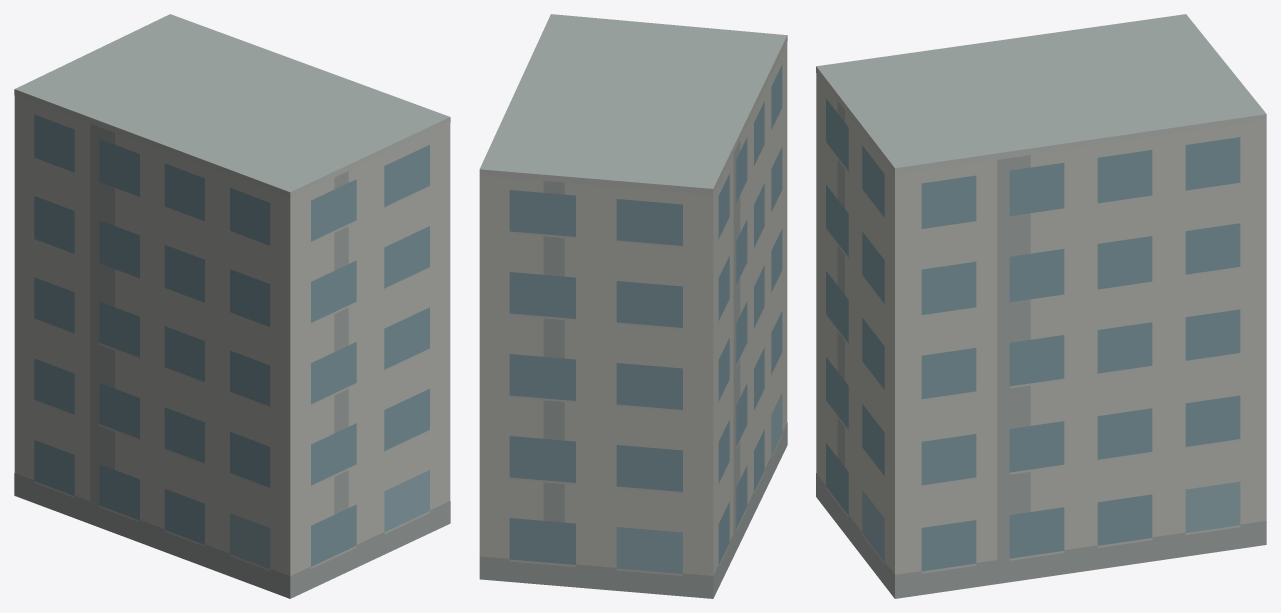
Rendered from survey-upis-32810019.glb.
The picture shows the model from 3 angles, left to right: view 1: azimuth 30°, elevation 25°; view 2: azimuth 150°, elevation 25°; view 3: azimuth 270°, elevation 25°; orthographic projection. The views are drawn at different scales.
Parts seen in each view (by area): view 1: survey-upis-32810019.tmp; view 2: survey-upis-32810019.tmp; view 3: survey-upis-32810019.tmp.
Boxes of the visible parts, x1,y1,x2,y2 form: survey-upis-32810019.tmp: [14, 14, 450, 598]; survey-upis-32810019.tmp: [479, 14, 787, 598]; survey-upis-32810019.tmp: [816, 14, 1266, 598].
Bounding box in the file's own units: 12.3 × 16 × 15.18.
